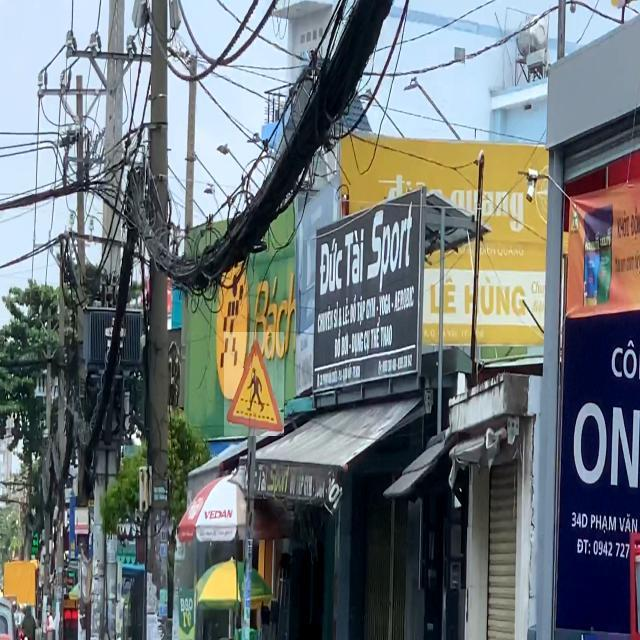W-224: (224, 332, 284, 436)
